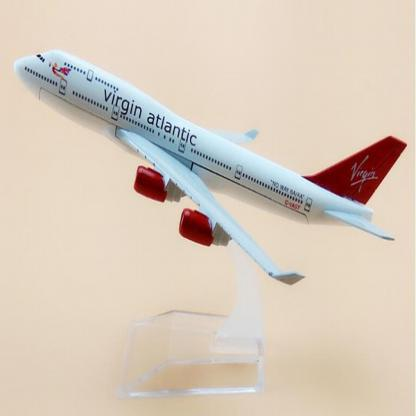CIV_Plane: (6, 40, 408, 294)
